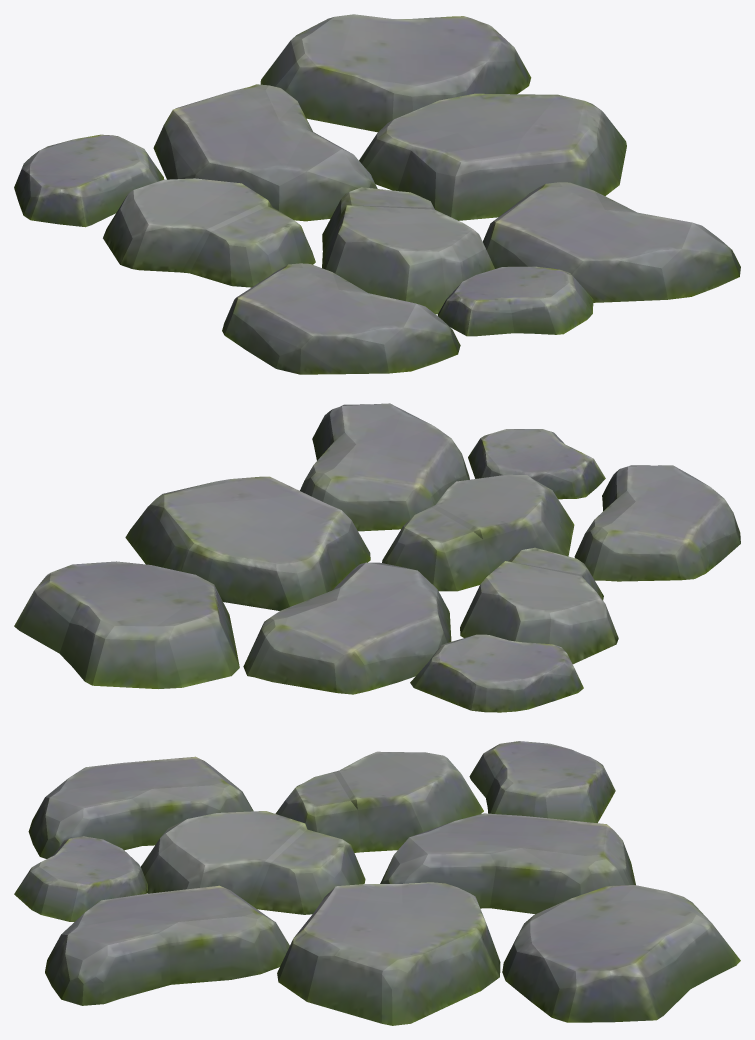
The model's file is rockpath_round_small_2.glb.
3 renders of one model, top to bottom at view 1: azimuth 30°, elevation 25°; view 2: azimuth 150°, elevation 25°; view 3: azimuth 270°, elevation 25°, orthographic. The views are drawn at different scales.
Parts seen in each view (by area): view 1: RockPath_Round_Small_2; view 2: RockPath_Round_Small_2; view 3: RockPath_Round_Small_2.
Boxes of the visible parts, x1,y1,x2,y2 form: RockPath_Round_Small_2: (14, 14, 740, 374); RockPath_Round_Small_2: (14, 403, 740, 712); RockPath_Round_Small_2: (14, 741, 740, 1025).
Bounding box in the file's own units: 1.14 × 0.1046 × 1.35.
1 material, 1 textured.
